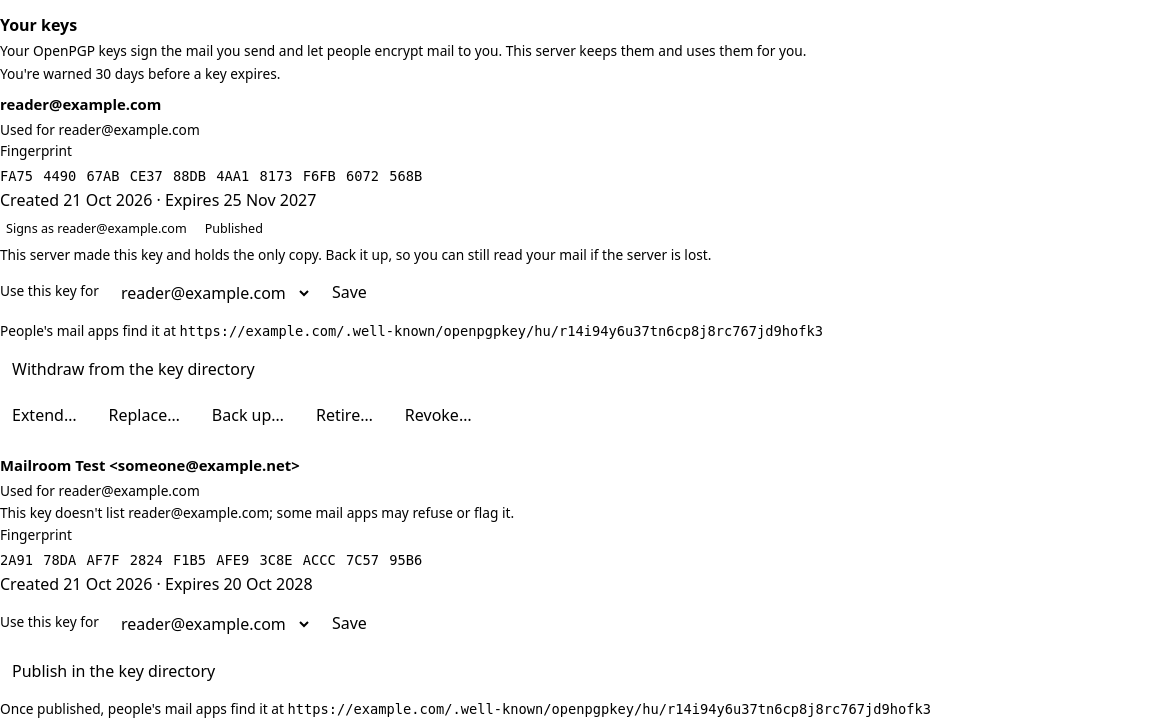
it: Replace (#817) › says what happens, offers generate's expiry choices, and starts on Cancel
Click the button "Replace…". click: (144, 416)
box: [96,396,192,435]
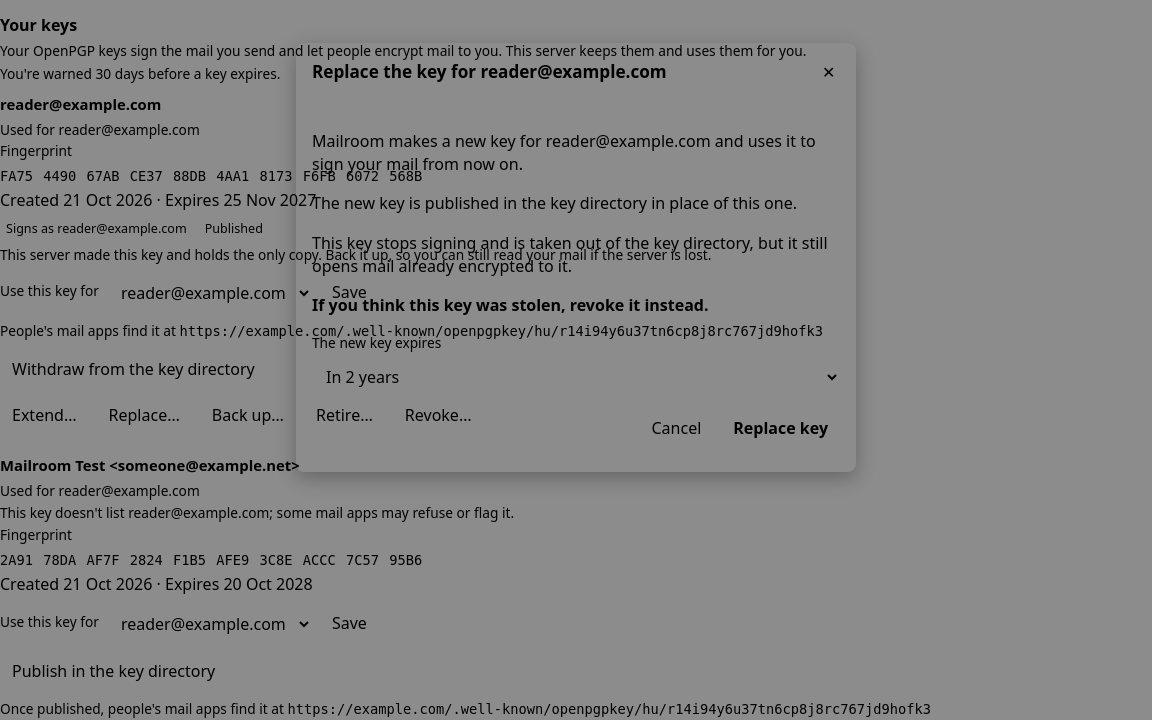
Expected: the heading "Replace the key for reader@example.com" is shown, [312,60,667,85]
Expected: the dialog shows "Mailroom makes a new key for reader@example.com", [312,130,816,175]
Expected: the dialog shows "The new key is published in the key directory in place of this one.", [312,192,797,214]
